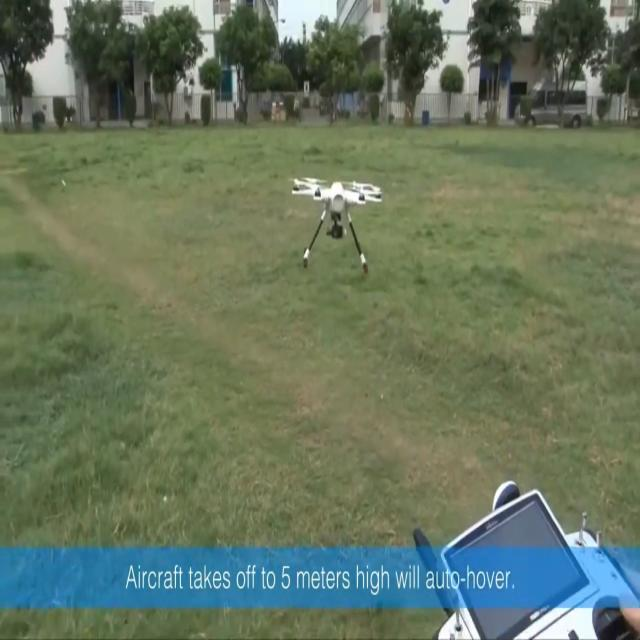drone: (290, 176, 383, 276)
